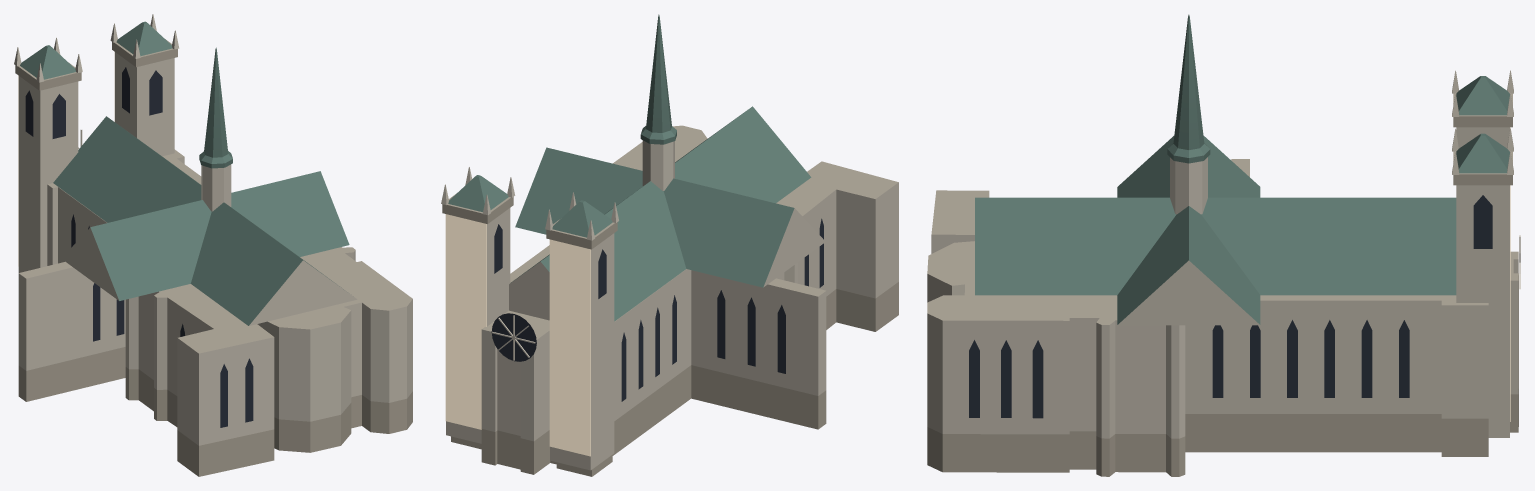
File: grace-cathedral.glb
The picture shows the model from 3 angles, left to right: view 1: azimuth 30°, elevation 25°; view 2: azimuth 150°, elevation 25°; view 3: azimuth 270°, elevation 25°; orthographic projection. The views are drawn at different scales.
Parts seen in each view (by area): view 1: cathedral; view 2: cathedral, floodlights; view 3: cathedral.
Boxes of the visible parts, x1,y1,x2,y2 form: cathedral: (14, 14, 412, 476); cathedral: (441, 14, 898, 476); floodlights: (445, 214, 590, 456); cathedral: (927, 14, 1520, 476).
Bounding box in the file's own units: 66.04 × 74.09 × 99.56.
